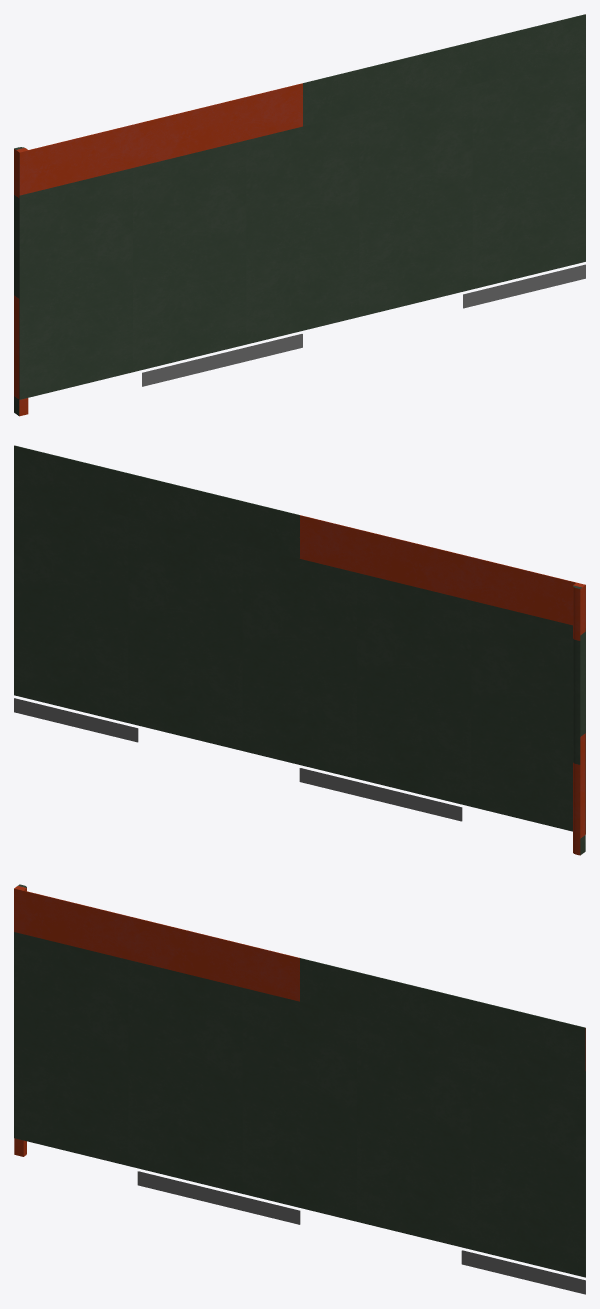
Rendered from kitchenwall_4.fbx.
The picture shows the model from 3 angles, top to bottom: view 1: azimuth 30°, elevation 25°; view 2: azimuth 150°, elevation 25°; view 3: azimuth 330°, elevation 25°; orthographic projection.
Visible parts, largest first — view 1: polySurface222; view 2: polySurface222; view 3: polySurface222.
Boxes of the visible parts, x1,y1,x2,y2 form: polySurface222: (14, 14, 585, 416); polySurface222: (14, 445, 585, 855); polySurface222: (14, 884, 585, 1294).
Bounding box in the file's own units: 5.78 × 2.58 × 0.1005.
